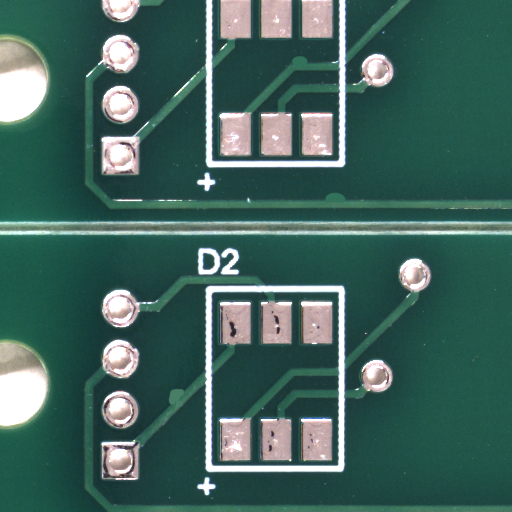Spur: (335, 198, 356, 213), (300, 59, 319, 68)
